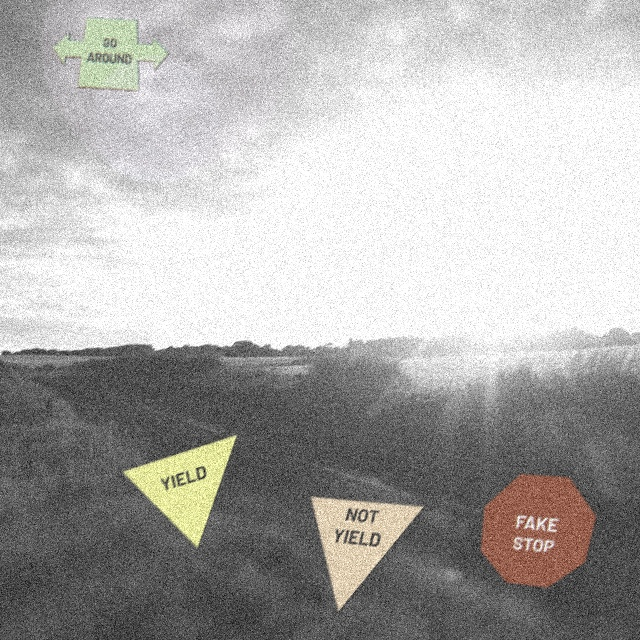FAKE_STOP: (480, 472, 598, 588)
GO_AROUND: (52, 16, 170, 91)
NOT_YIELD: (310, 495, 426, 613)
YIELD: (121, 433, 239, 549)
